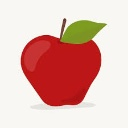apple: (20, 17, 103, 106)
